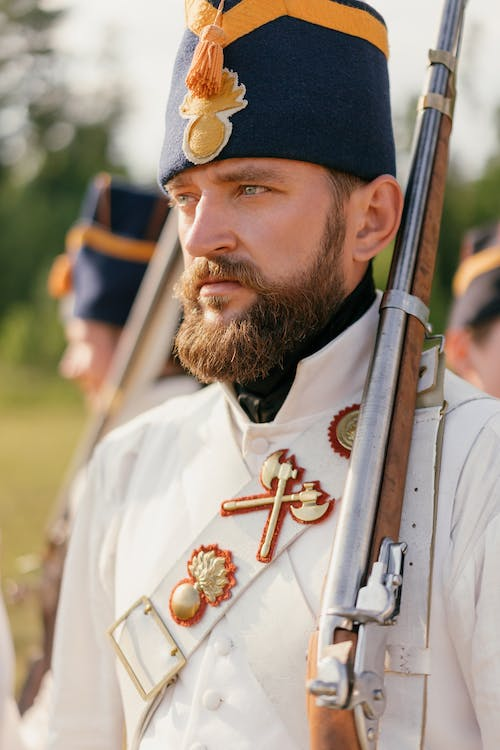gun: (303, 0, 474, 750), (14, 198, 188, 726)
